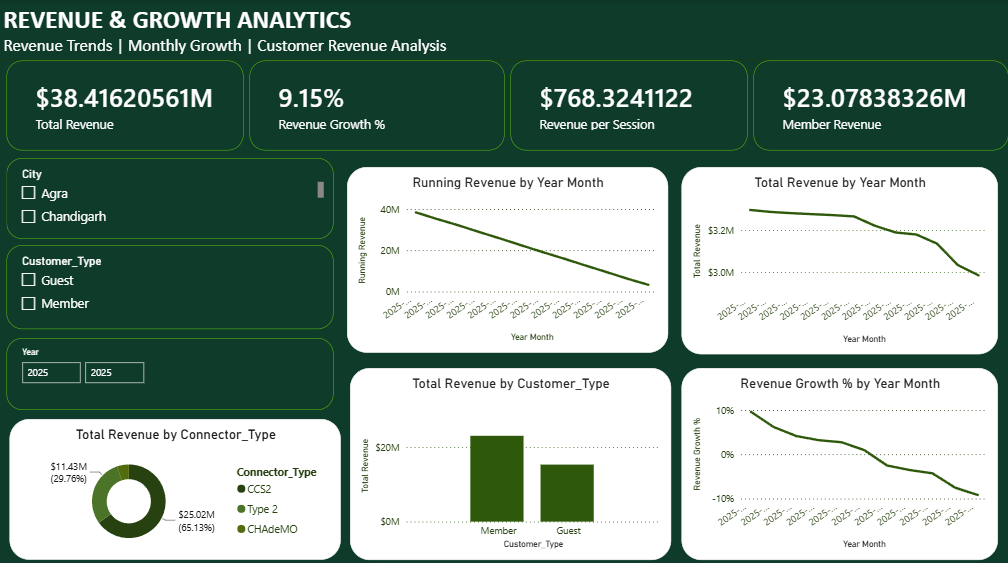

The page's visual inventory and layout, read from the dashboard file:
{"tool":"powerbi","page":{"name":"Revenue Intelligence","canvas":[1280,720],"ordinal":3},"visuals":[{"type":"textbox","box":[0,0,1279.4,77.5],"z":0},{"type":"cardVisual","fields":{"Data":["Calendar.Revenue Growth %"]},"box":[315.6,77.5,321.3,113.4],"z":1000},{"type":"cardVisual","fields":{"Data":["ev_charging_sessions_engineered.Revenue per Session"]},"box":[644.4,77.5,298.6,113.4],"z":2000},{"type":"cardVisual","fields":{"Data":["ev_charging_sessions_engineered.Member Revenue"]},"box":[950.6,77.5,321.3,113.4],"z":3000},{"type":"cardVisual","fields":{"Data":["ev_charging_sessions_engineered.Total Revenue"]},"box":[9.4,77.5,298.6,113.4],"z":4000},{"type":"slicer","fields":{"Values":["ev_charging_sessions_engineered.Customer_Type"]},"box":[9.4,309.9,412,105.8],"z":5000},{"type":"slicer","fields":{"Values":["ev_charging_sessions_engineered.City"]},"box":[9.4,200.3,412,102],"z":6000},{"type":"slicer","fields":{"Values":["Calendar.Year"]},"box":[9.4,427.1,412,90.7],"z":7000},{"type":"lineChart","fields":{"Category":["Calendar.Year Month"],"Y":["ev_charging_sessions_engineered.Total Revenue"]},"box":[859.8,211.7,398.7,236.2],"z":9000},{"type":"lineChart","fields":{"Category":["Calendar.Year Month"],"Y":["Calendar.Revenue Growth %"]},"box":[859.8,464.9,398.7,241.9],"z":10000},{"type":"clusteredColumnChart","fields":{"Category":["ev_charging_sessions_engineered.Customer_Type"],"Y":["ev_charging_sessions_engineered.Total Revenue"]},"box":[442.2,464.9,404.4,241.9],"z":11000},{"type":"donutChart","fields":{"Category":["ev_charging_sessions_engineered.Connector_Type"],"Y":["ev_charging_sessions_engineered.Total Revenue"]},"box":[13.2,529.1,417.6,177.6],"z":12000},{"type":"lineChart","fields":{"Category":["Calendar.Year Month"],"Y":["Calendar.Running Revenue"]},"box":[438.4,211.7,404.4,234.3],"z":13000}]}

Visuals, with their boxes in screenshot pixels (x1, y1, x2, y2), scaled from the page's 1280x720 canvas onto the 1008x563 screenshot:
textbox: bbox=[0, 0, 1007, 61]
cardVisual - Calendar.Revenue Growth %: bbox=[249, 61, 502, 149]
cardVisual - ev_charging_sessions_engineered.Revenue per Session: bbox=[507, 61, 743, 149]
cardVisual - ev_charging_sessions_engineered.Member Revenue: bbox=[749, 61, 1002, 149]
cardVisual - ev_charging_sessions_engineered.Total Revenue: bbox=[7, 61, 243, 149]
slicer - ev_charging_sessions_engineered.Customer_Type: bbox=[7, 242, 332, 325]
slicer - ev_charging_sessions_engineered.City: bbox=[7, 157, 332, 236]
slicer - Calendar.Year: bbox=[7, 334, 332, 405]
lineChart - Calendar.Year Month x ev_charging_sessions_engineered.Total Revenue: bbox=[677, 166, 991, 350]
lineChart - Calendar.Year Month x Calendar.Revenue Growth %: bbox=[677, 364, 991, 553]
clusteredColumnChart - ev_charging_sessions_engineered.Customer_Type x ev_charging_sessions_engineered.Total Revenue: bbox=[348, 364, 667, 553]
donutChart - ev_charging_sessions_engineered.Connector_Type x ev_charging_sessions_engineered.Total Revenue: bbox=[10, 414, 339, 553]
lineChart - Calendar.Year Month x Calendar.Running Revenue: bbox=[345, 166, 664, 349]
